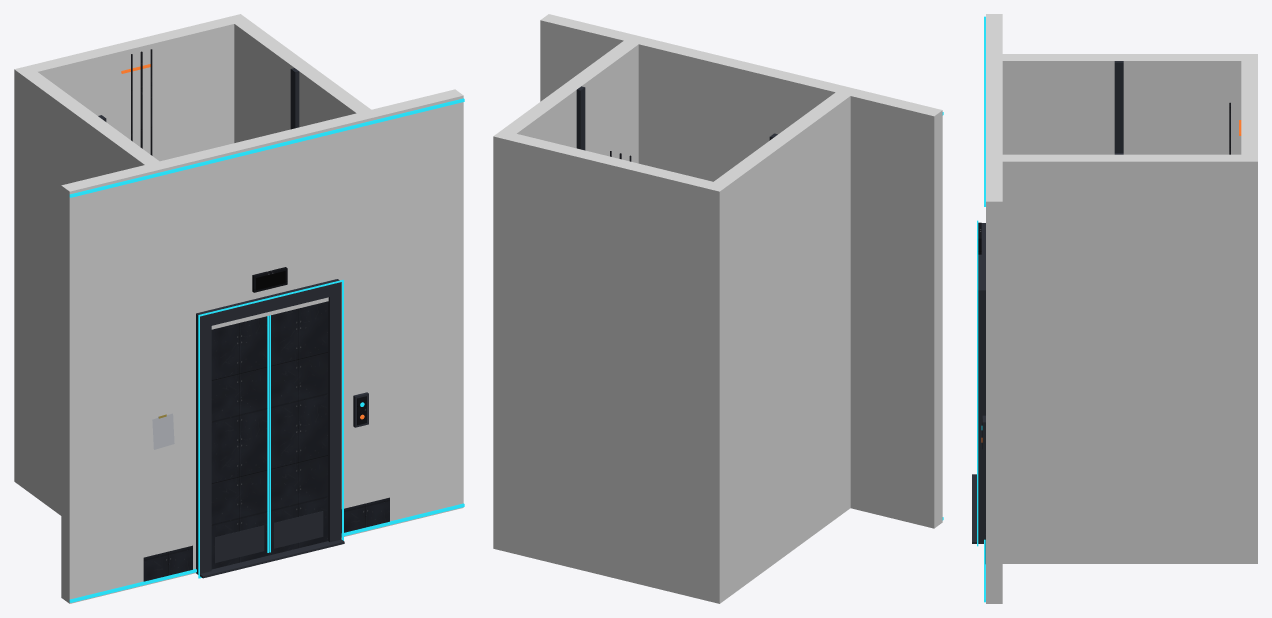
Rendered from Arch_Elevator_Floor.gltf.
3 views of the same model, side by side, from view 1: azimuth 30°, elevation 25°; view 2: azimuth 150°, elevation 25°; view 3: azimuth 270°, elevation 25° (orthographic). The views are drawn at different scales.
Visible parts, largest first — view 1: Arch_Elevator_Floor_COL, Arch_Elevator_Floor_COL1, Arch_Elevator_Floor_COL3, Arch_Elevator_Floor, Arch_Elevator_Floor_COL2, Arch_Elevator_Floor_COL5, Door_R, Door_L, Arch_Elevator_Floor_COL4; view 2: Arch_Elevator_Floor_COL5, Arch_Elevator_Floor_COL3, Arch_Elevator_Floor_COL, Arch_Elevator_Floor_COL2, Arch_Elevator_Floor_COL1, Arch_Elevator_Floor_COL4, Arch_Elevator_Floor; view 3: Arch_Elevator_Floor_COL4, Arch_Elevator_Floor_COL3, Arch_Elevator_Floor_COL1, Arch_Elevator_Floor, Arch_Elevator_Floor_COL5, Arch_Elevator_Floor_COL, Arch_Elevator_Floor_COL2.
Part boxes in pixels (left/top/right/bottom): Arch_Elevator_Floor_COL: left=61, top=152, right=207, bottom=603; Arch_Elevator_Floor_COL1: left=318, top=89, right=463, bottom=537; Arch_Elevator_Floor_COL3: left=14, top=69, right=159, bottom=515; Arch_Elevator_Floor: left=69, top=49, right=464, bottom=602; Arch_Elevator_Floor_COL2: left=199, top=123, right=325, bottom=310; Arch_Elevator_Floor_COL5: left=14, top=14, right=240, bottom=161; Door_R: left=269, top=301, right=327, bottom=555; Door_L: left=211, top=316, right=268, bottom=569; Arch_Elevator_Floor_COL4: left=226, top=14, right=370, bottom=142; Arch_Elevator_Floor_COL5: left=493, top=134, right=728, bottom=603; Arch_Elevator_Floor_COL3: left=705, top=92, right=850, bottom=603; Arch_Elevator_Floor_COL: left=796, top=76, right=942, bottom=528; Arch_Elevator_Floor_COL2: left=678, top=47, right=804, bottom=181; Arch_Elevator_Floor_COL1: left=540, top=14, right=685, bottom=172; Arch_Elevator_Floor_COL4: left=493, top=40, right=638, bottom=188; Arch_Elevator_Floor: left=576, top=86, right=943, bottom=520; Arch_Elevator_Floor_COL4: left=1002, top=154, right=1257, bottom=563; Arch_Elevator_Floor_COL3: left=1002, top=54, right=1257, bottom=154; Arch_Elevator_Floor_COL1: left=986, top=136, right=1002, bottom=603; Arch_Elevator_Floor: left=972, top=16, right=1241, bottom=602; Arch_Elevator_Floor_COL5: left=1241, top=54, right=1257, bottom=308; Arch_Elevator_Floor_COL: left=986, top=14, right=1002, bottom=79; Arch_Elevator_Floor_COL2: left=986, top=79, right=1002, bottom=135.
Bounding box in the file's own units: 4 × 4.02 × 2.58.
Materials: 10 (3 with a texture image).
